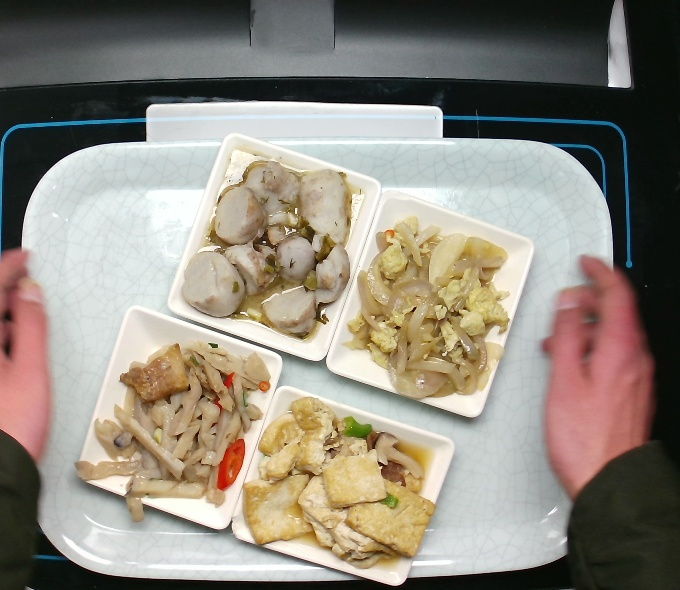wcq-JiaChangDouFu: (226, 391, 439, 563)
wcq-QingChaoOuPian: (66, 334, 269, 530)
wcq-YangCongChaoDan: (335, 215, 516, 410)
wcq-YangYu: (183, 152, 357, 342)
